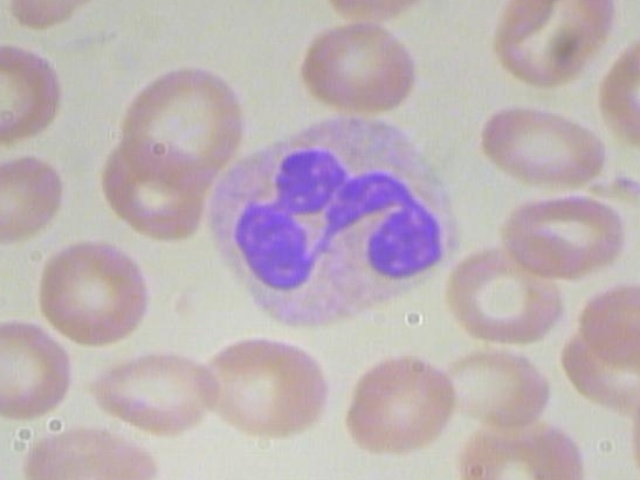RBC: (117, 54, 260, 200), (338, 340, 464, 460), (25, 237, 156, 349), (197, 338, 335, 441), (443, 230, 562, 348), (292, 16, 423, 121), (468, 102, 615, 191), (479, 0, 615, 93), (492, 194, 638, 279), (91, 342, 225, 434), (431, 345, 552, 436), (0, 317, 78, 422), (0, 38, 72, 144), (0, 146, 67, 246)
WBC: (195, 101, 460, 338)
